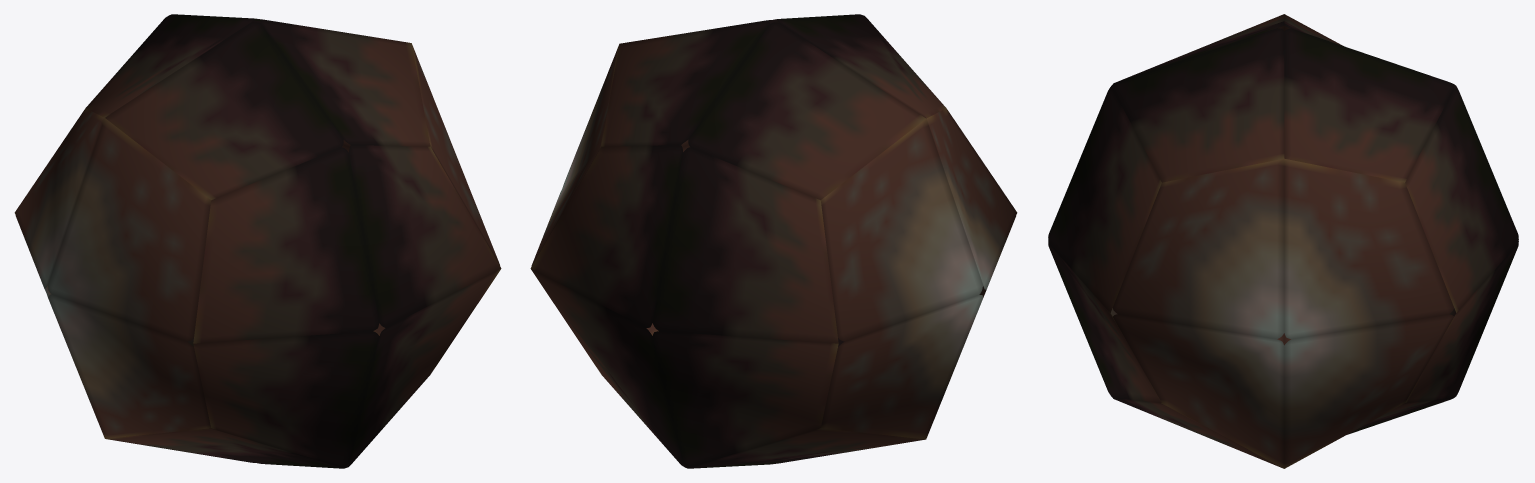
3 views of the same model, side by side, from view 1: azimuth 30°, elevation 25°; view 2: azimuth 150°, elevation 25°; view 3: azimuth 270°, elevation 25° (orthographic). The views are drawn at different scales.
Parts seen in each view (by area): view 1: T1L9M001_20; view 2: T1L9M001_20; view 3: T1L9M001_20.
Boxes of the visible parts, box(x1,y1,x2,y2) form: T1L9M001_20: box(14, 14, 501, 468); T1L9M001_20: box(530, 14, 1017, 468); T1L9M001_20: box(1048, 14, 1518, 468).
Bounding box in the file's own units: 0.2793 × 0.2803 × 0.2803.
